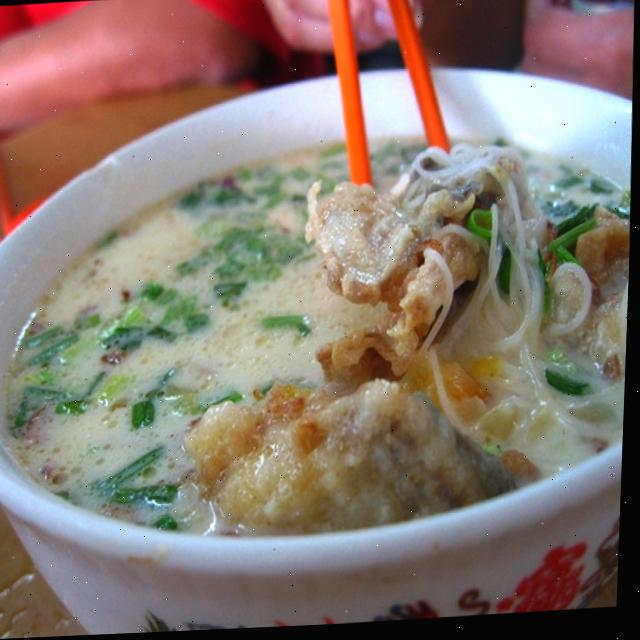面条主食: (0, 28, 639, 600)
